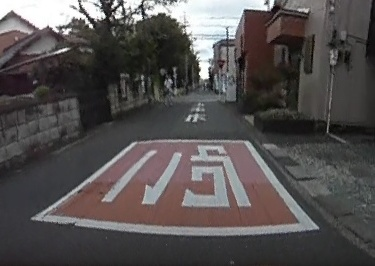person: (162, 73, 174, 104)
